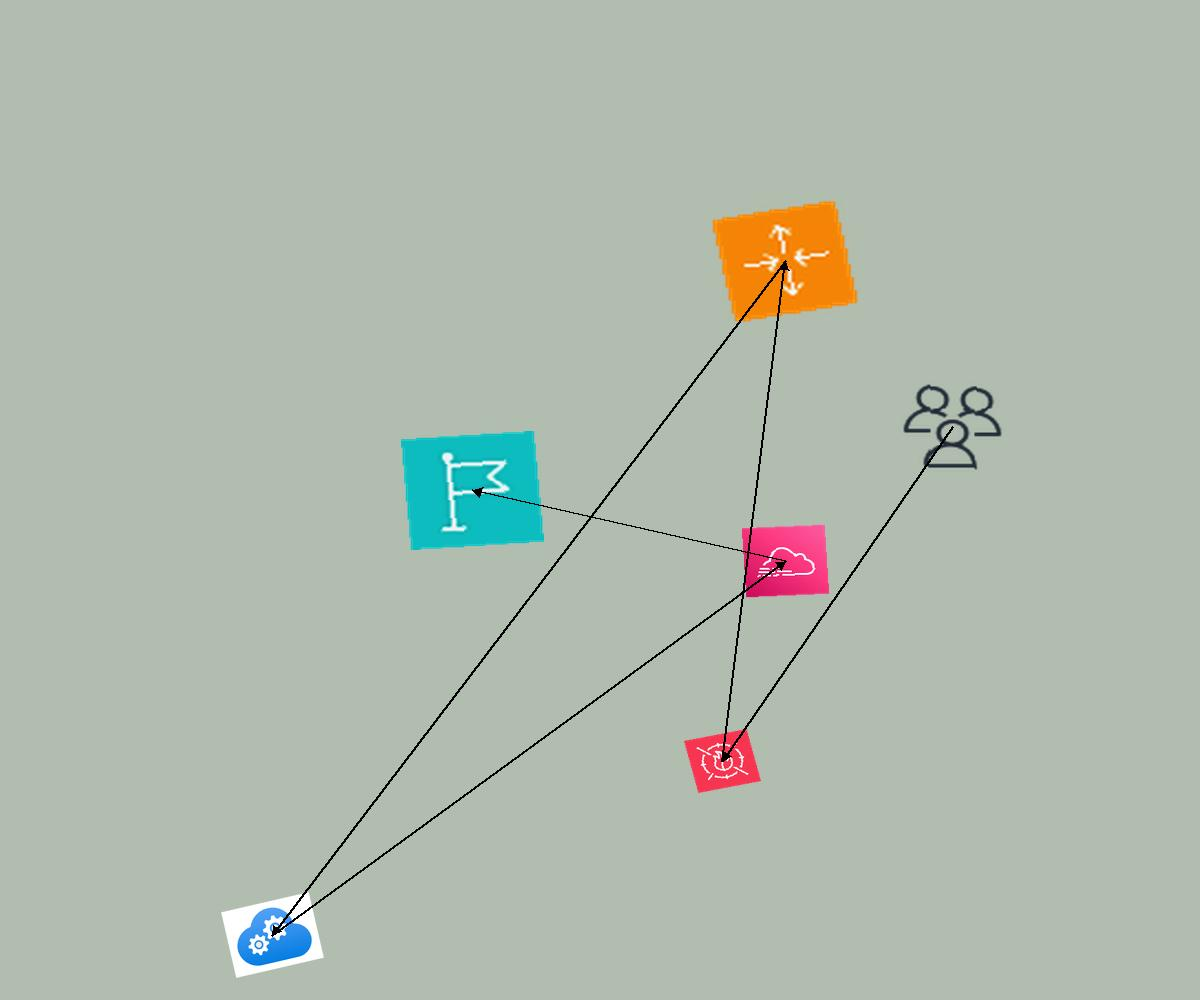AWS-CloudTrail: (741, 524, 830, 598)
AWS-Region: (401, 431, 544, 550)
AWS-Res_Users: (895, 379, 1010, 475)
AWS-Scaling-group: (710, 199, 860, 324)
AWS-WAF: (684, 729, 761, 793)
Azure_cloud_services: (221, 892, 324, 978)
